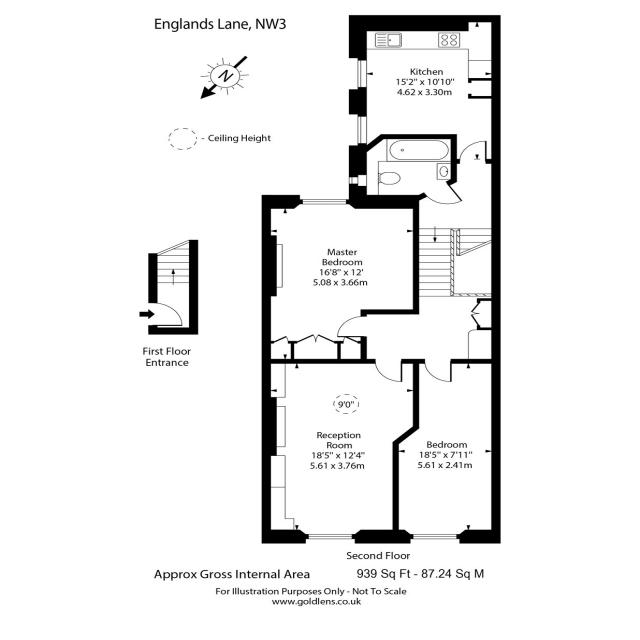DOOR: (423, 181, 464, 205), (458, 140, 488, 164), (336, 315, 367, 338), (424, 359, 453, 383), (374, 359, 403, 383)
ROOM: (261, 359, 420, 544), (261, 194, 420, 364), (348, 15, 501, 164), (392, 359, 501, 544)
WINDOW: (357, 60, 367, 88), (357, 116, 367, 144), (412, 534, 458, 540), (308, 534, 353, 540), (348, 174, 367, 187), (302, 199, 347, 204)
